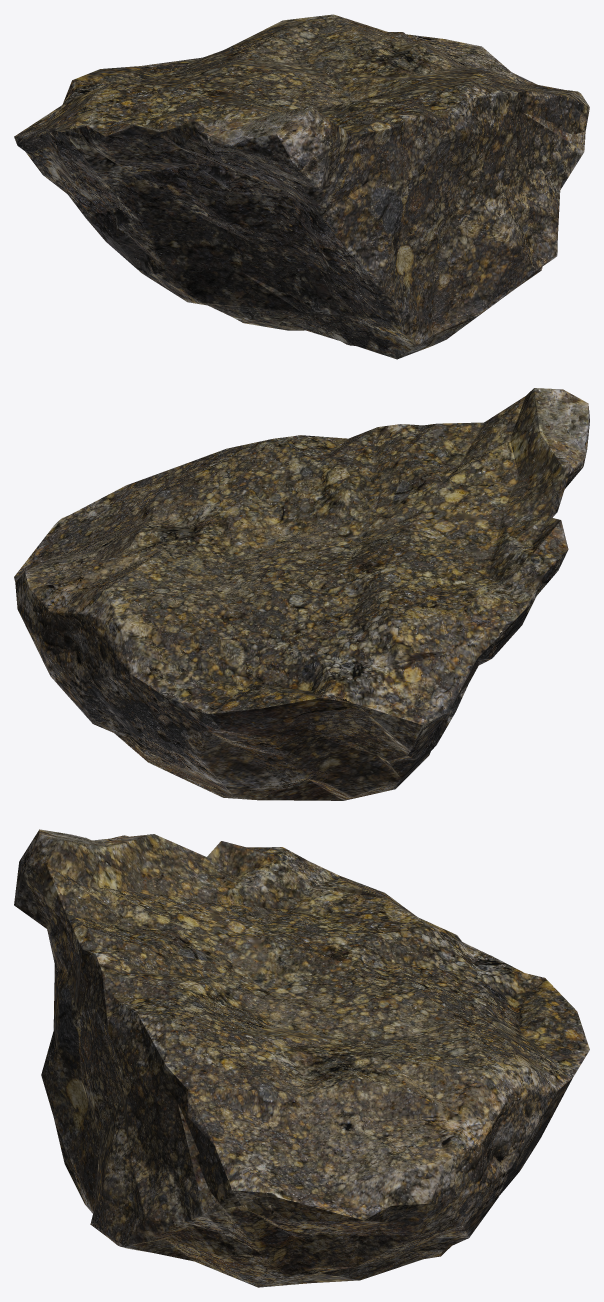
Rendered from GRO17063-3.fbx.
3 renders of one model, top to bottom at view 1: azimuth 30°, elevation 25°; view 2: azimuth 150°, elevation 25°; view 3: azimuth 270°, elevation 25°, orthographic. The views are drawn at different scales.
Parts seen in each view (by area): view 1: GRO17063-3; view 2: GRO17063-3; view 3: GRO17063-3.
Part boxes in pixels (box(x1,y1,x2,y2)): GRO17063-3: box(14, 14, 589, 359); GRO17063-3: box(14, 388, 589, 800); GRO17063-3: box(14, 829, 589, 1287).
Bounding box in the file's own units: 58.31 × 37.3 × 54.74.
